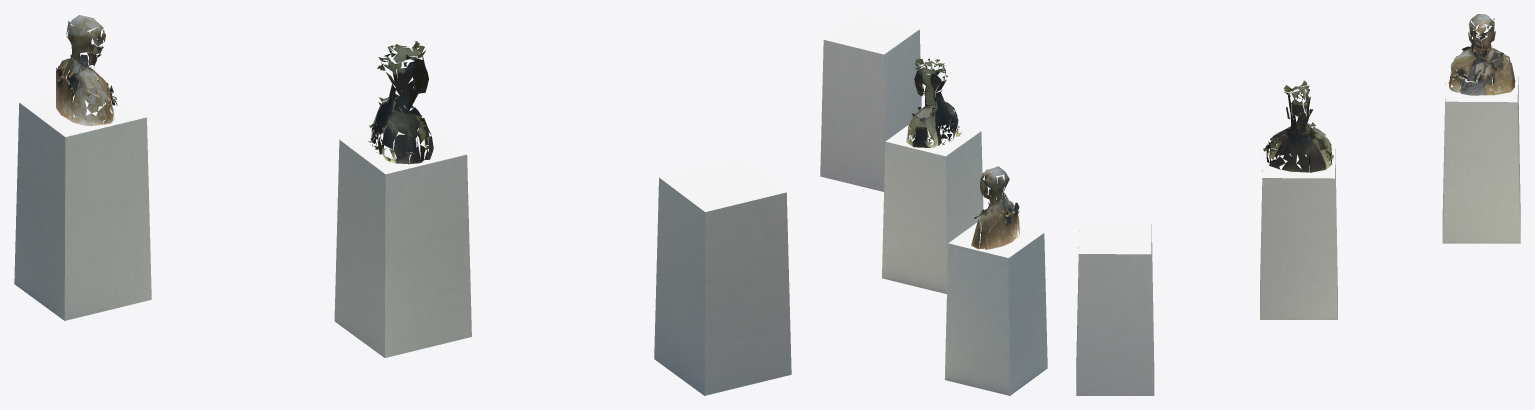
File: StatueFix_LOD5.glb
3 views of the same model, side by side, from view 1: azimuth 30°, elevation 25°; view 2: azimuth 150°, elevation 25°; view 3: azimuth 270°, elevation 25° (orthographic). The views are drawn at different scales.
Parts seen in each view (by area): view 1: Statue Place.001_LOD5; view 2: Statue Place.001_LOD5; view 3: Statue Place.001_LOD5.
Part boxes in pixels (x1,y1,x2,y2): Statue Place.001_LOD5: (14, 15, 791, 395); Statue Place.001_LOD5: (820, 14, 1047, 395); Statue Place.001_LOD5: (1076, 14, 1520, 395).
Bounding box in the file's own units: 3.38 × 1.87 × 3.42.
Materials: 2 (2 with a texture image).
